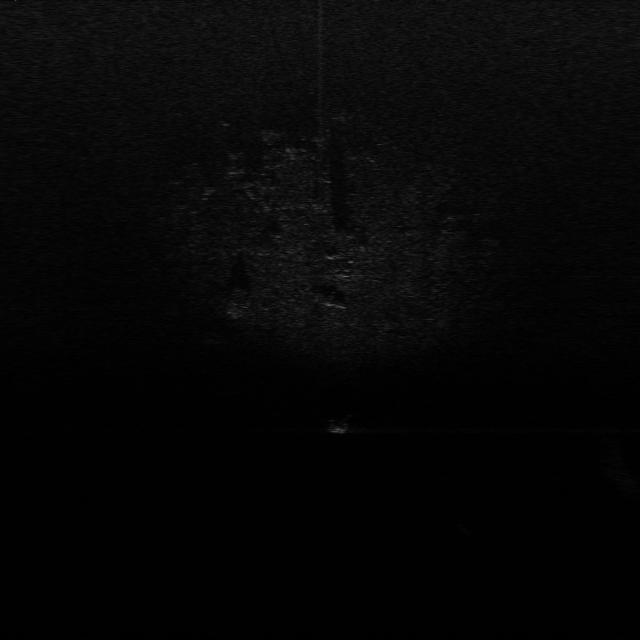square cage: (322, 409, 361, 437)
